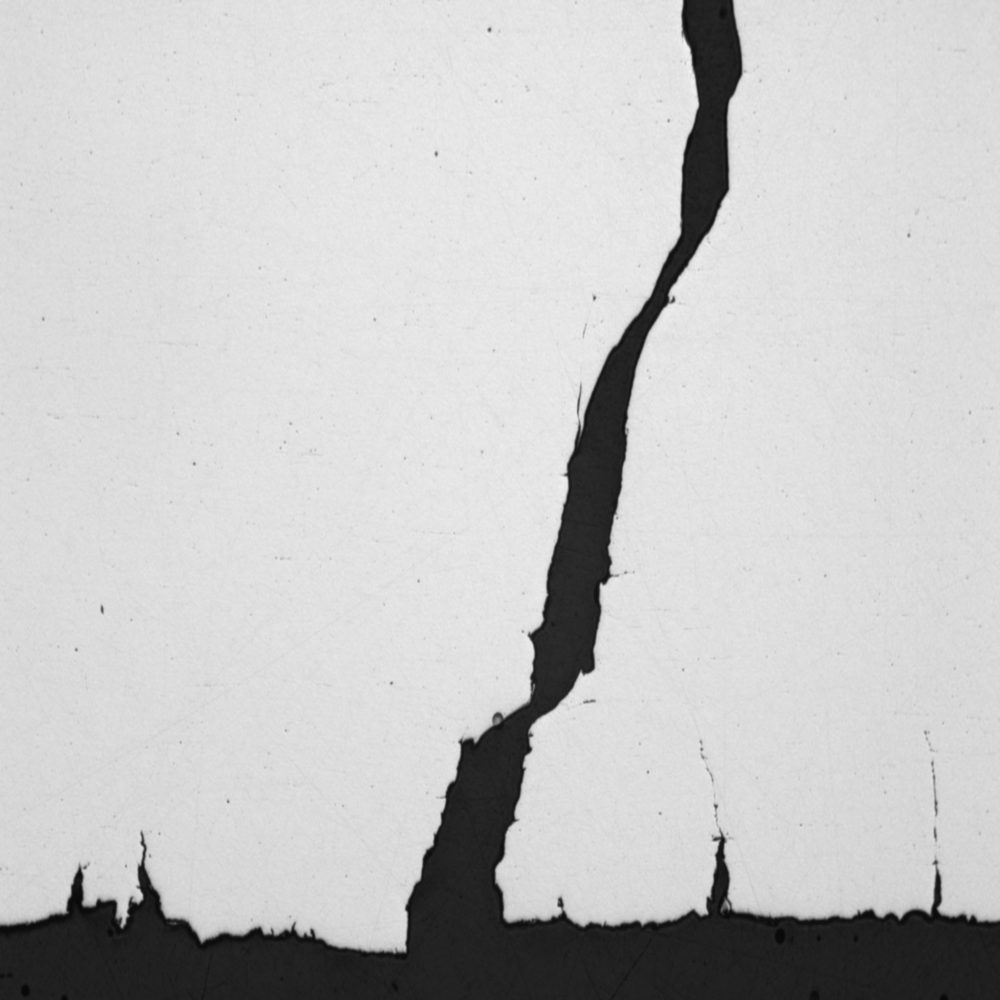crack: (373, 4, 750, 961)
